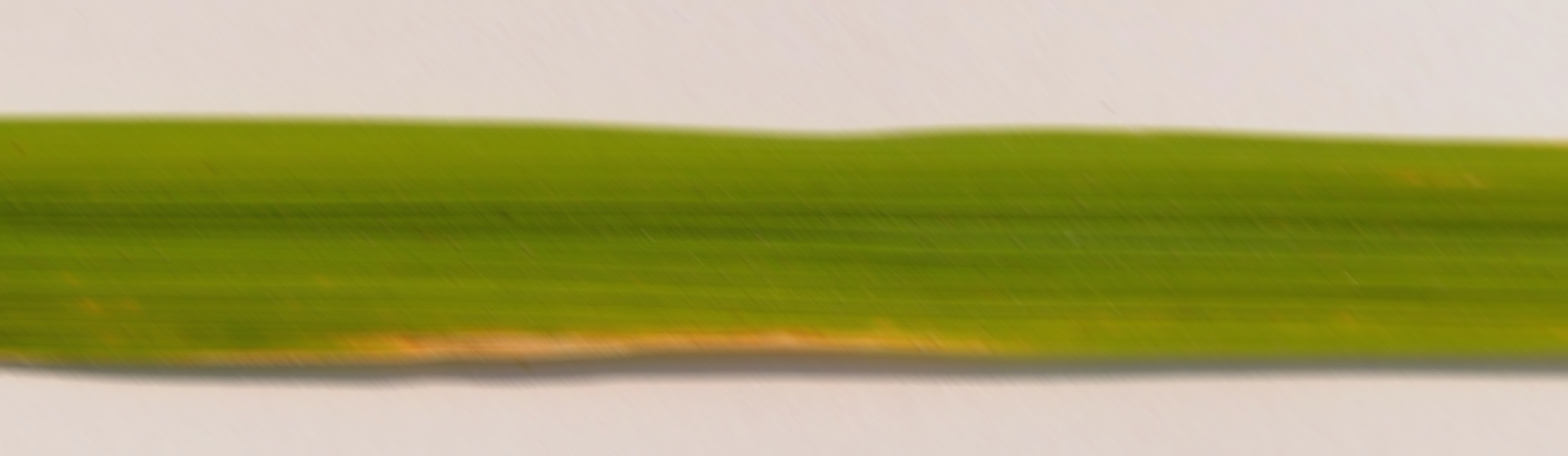Leaf_Blast: (123, 285, 1089, 396)
